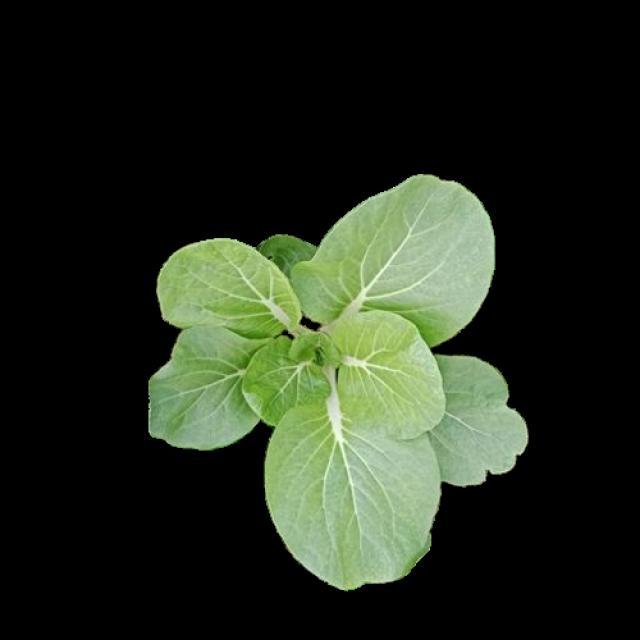not-mature: (148, 177, 528, 588)
unhealthy: (429, 354, 523, 486)
